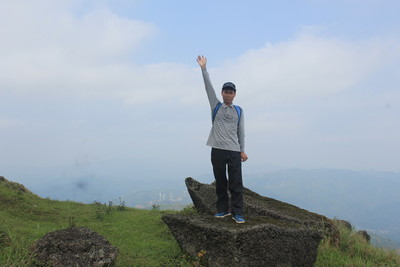handsup: (192, 51, 259, 228)
